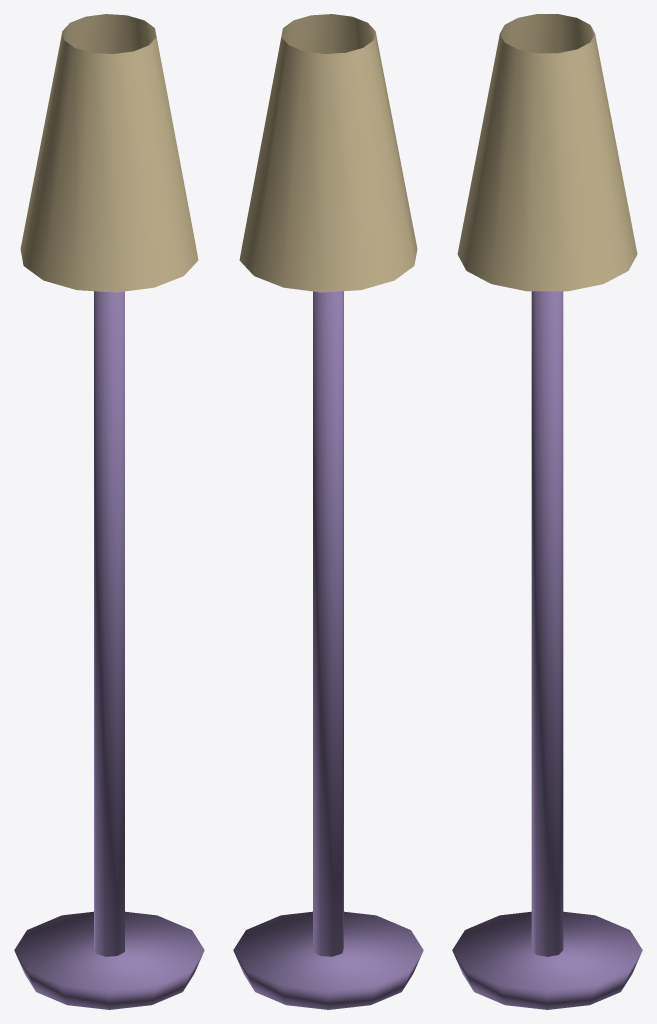
Rendered from ebonwood_lamp_v0.glb.
3 renders of one model, left to right at view 1: azimuth 30°, elevation 25°; view 2: azimuth 150°, elevation 25°; view 3: azimuth 270°, elevation 25°, orthographic.
Visible parts, largest first — view 1: ebonwood_lamp_v0; view 2: ebonwood_lamp_v0; view 3: ebonwood_lamp_v0.
Boxes of the visible parts, x1,y1,x2,y2 form: ebonwood_lamp_v0: [14, 14, 204, 1009]; ebonwood_lamp_v0: [233, 14, 423, 1009]; ebonwood_lamp_v0: [452, 14, 642, 1009].
Size of the model in its own units: 0.36 by 1.96 by 0.36.
